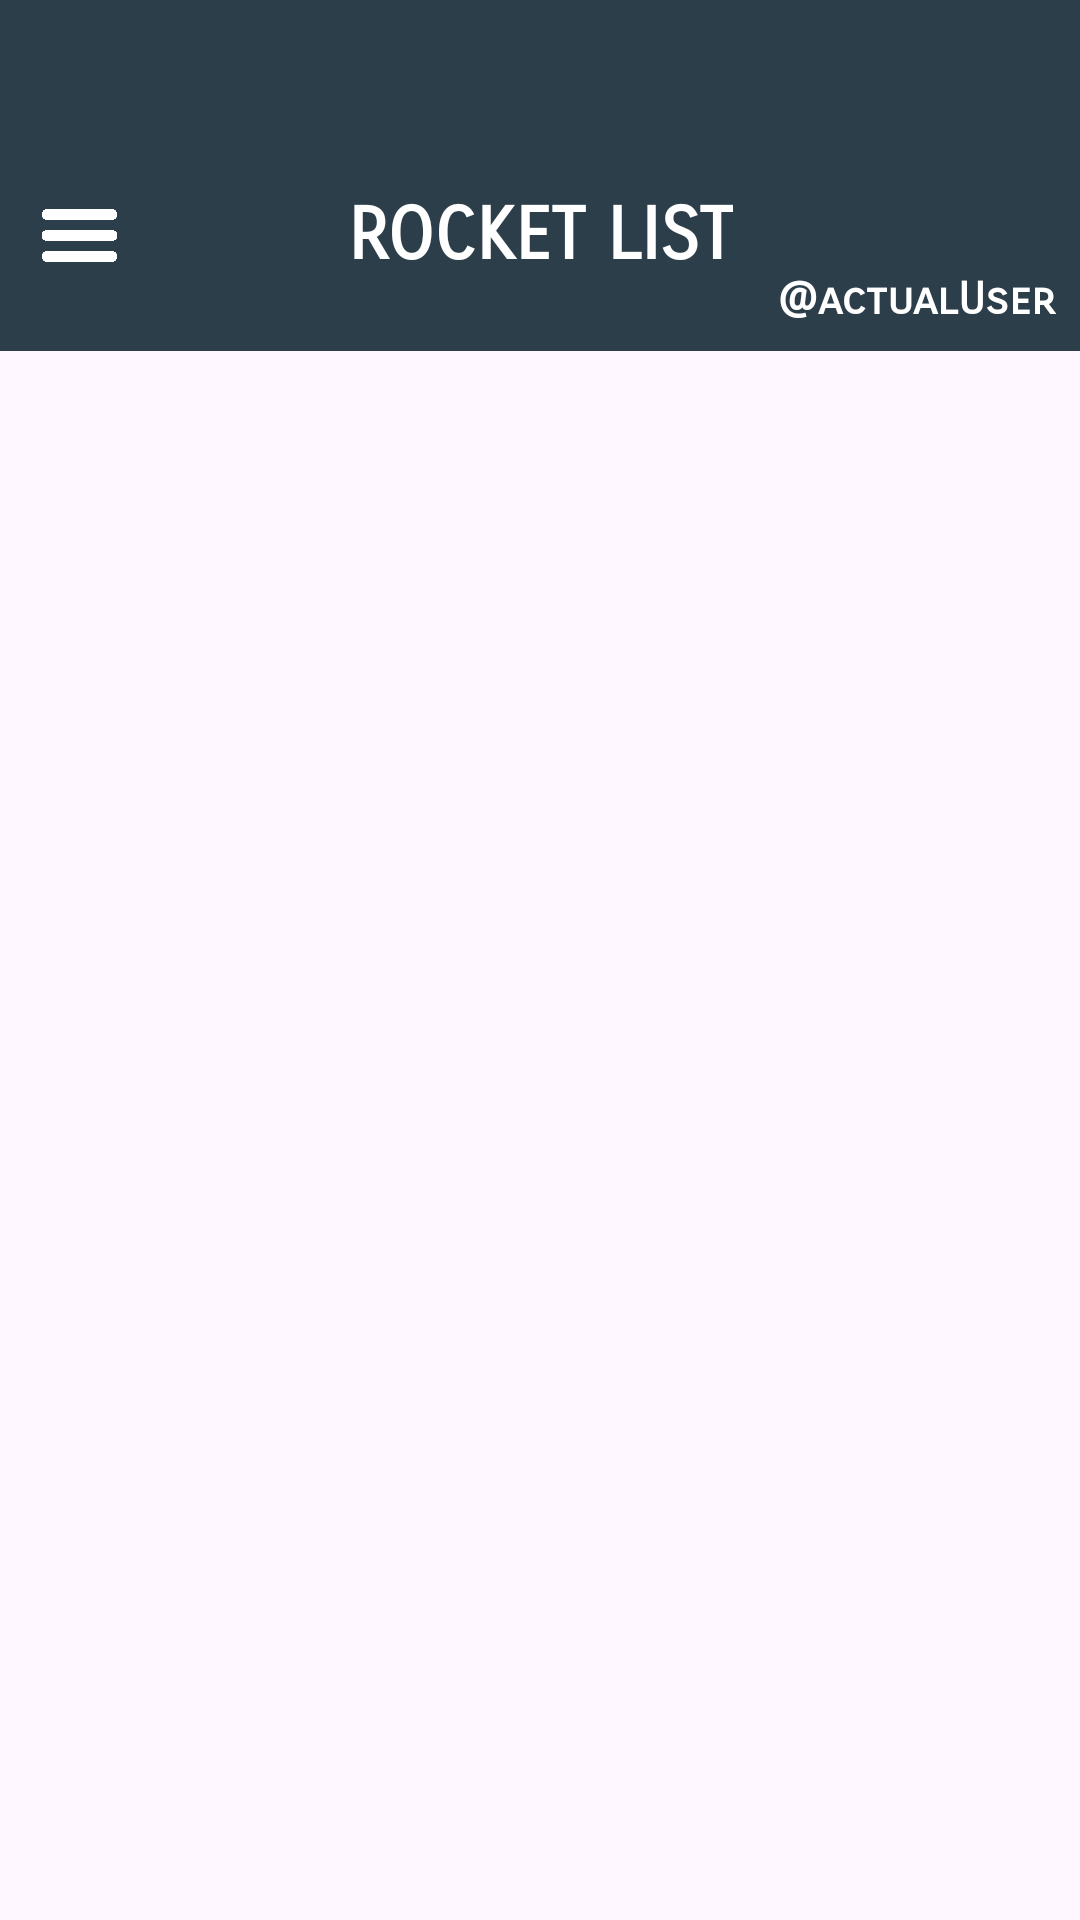

Named icons in this screenshot (1080w x 1920h) and their bounding boxes, region(x1, y1, x2, y2):
Menú hamburguesa: region(42, 209, 117, 262)
